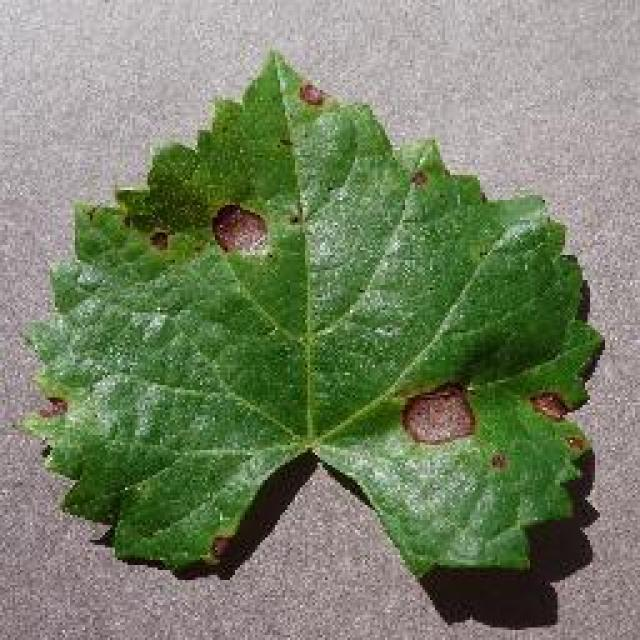Grape___Black_rot: (7, 46, 614, 596)
